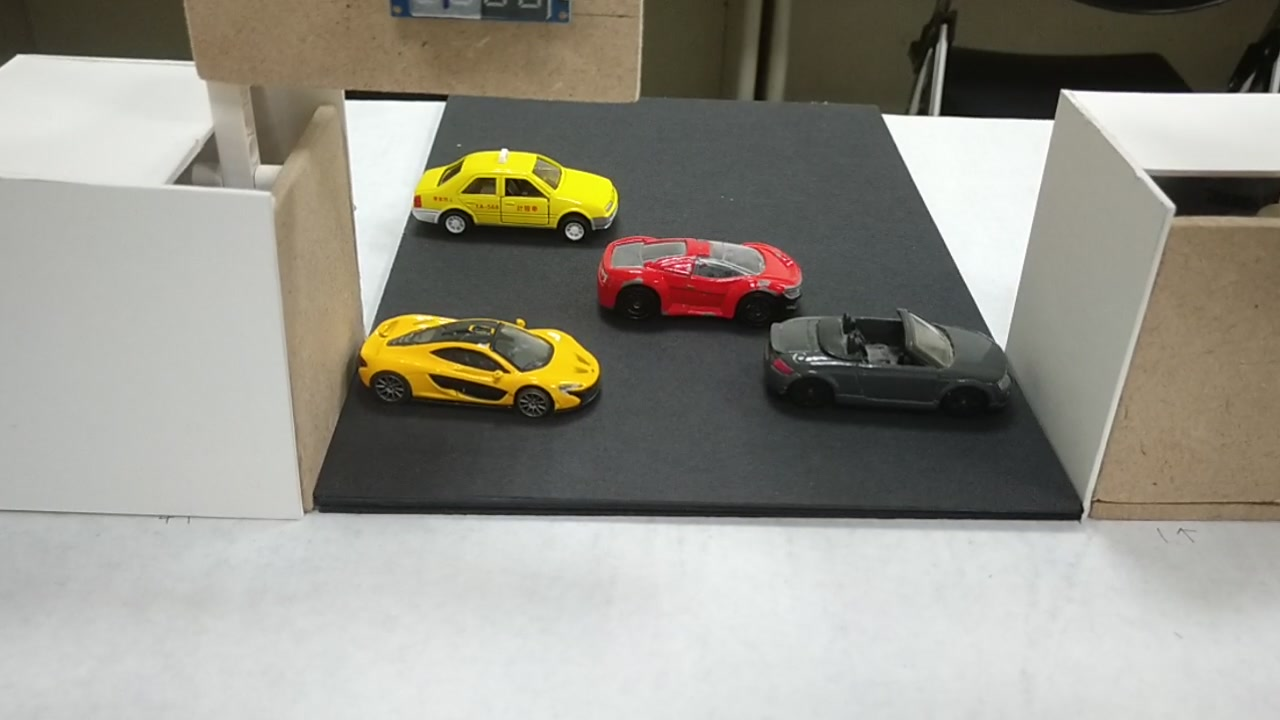car: (357, 308, 600, 415), (768, 316, 1004, 410), (416, 146, 619, 236), (600, 232, 802, 320)
